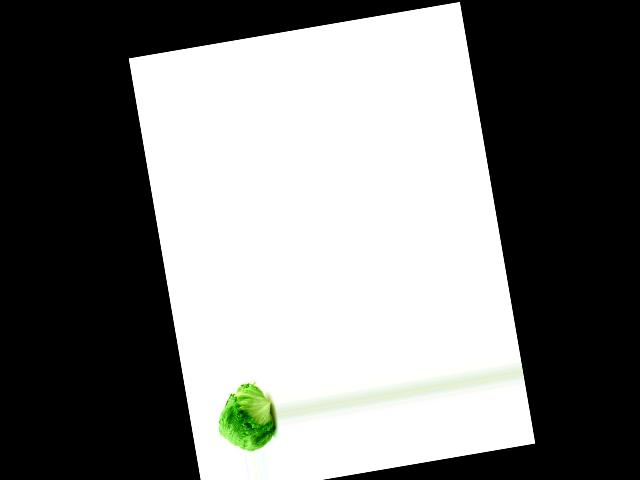lettuce: (210, 380, 279, 458)
